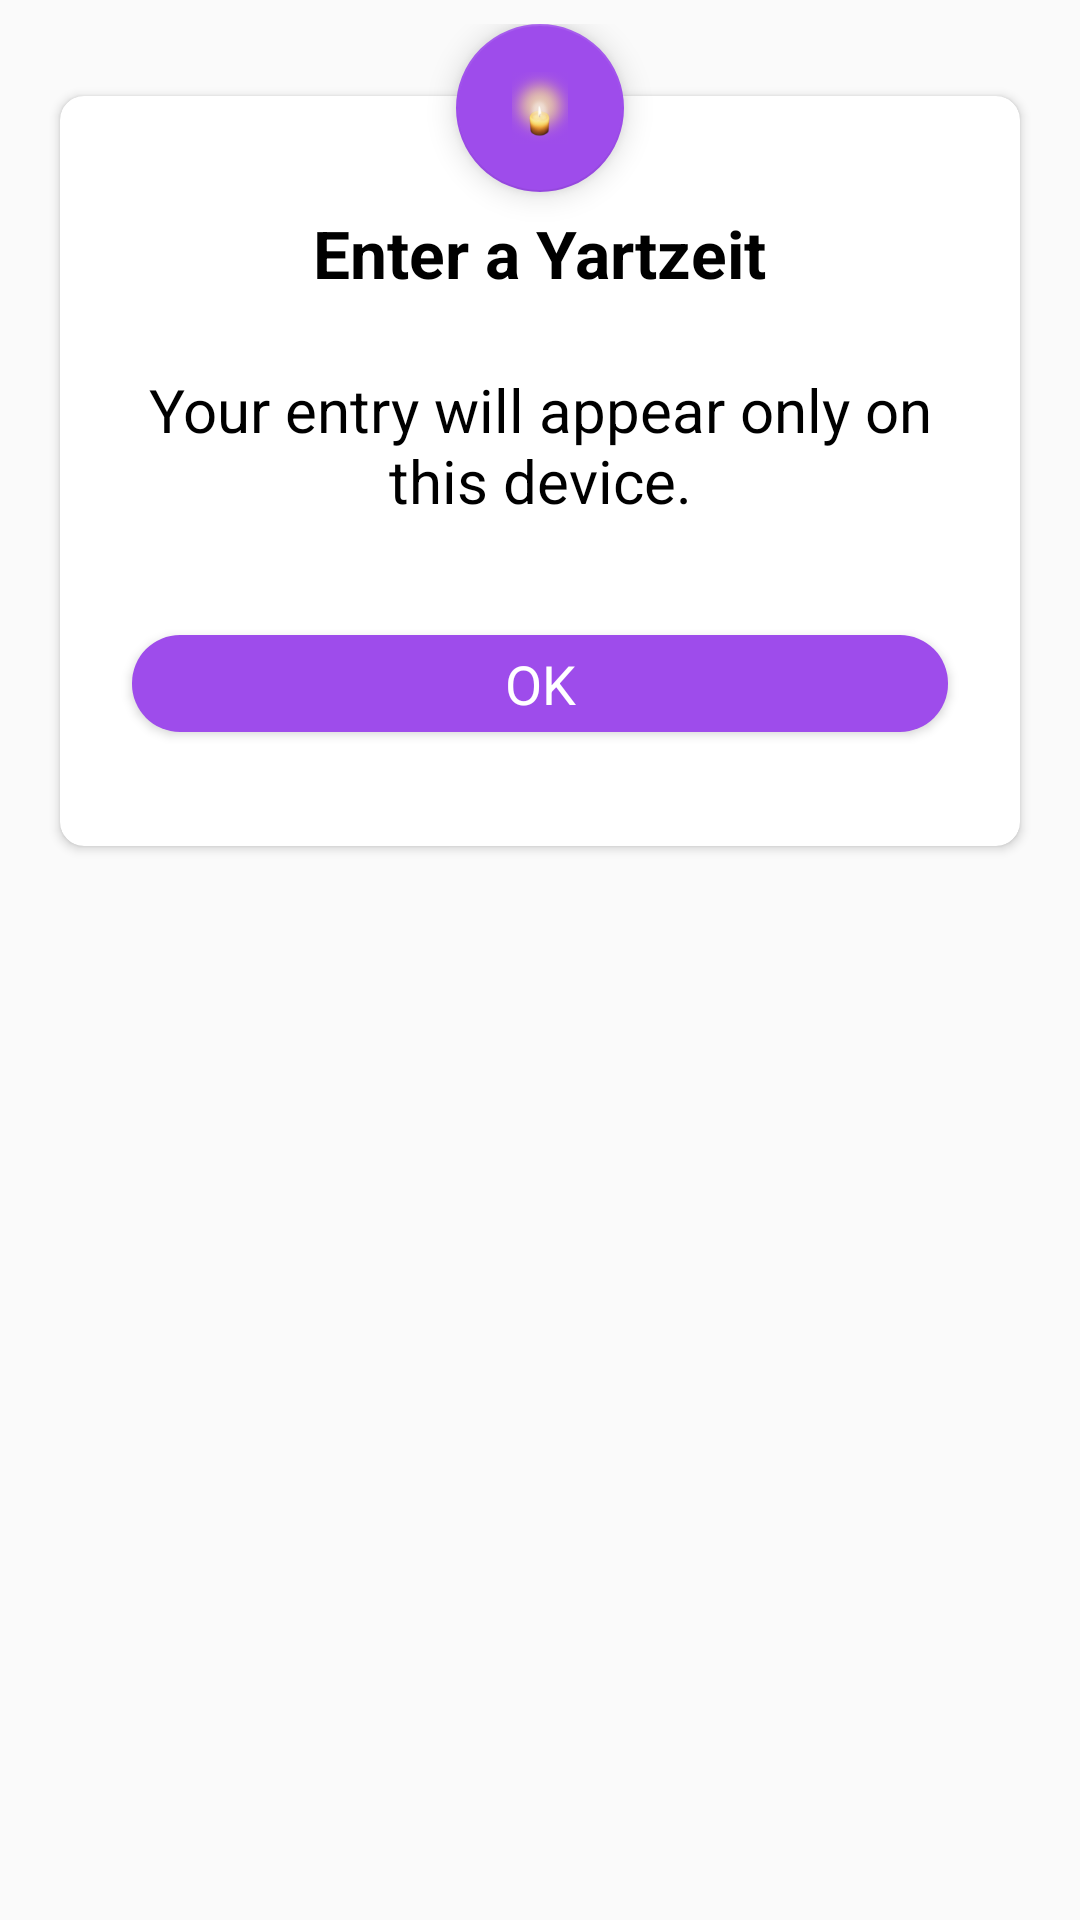

Point at icon controls on the screen. Image size 1080w x 1920h, points as (x,y).
candle: (540,108)
